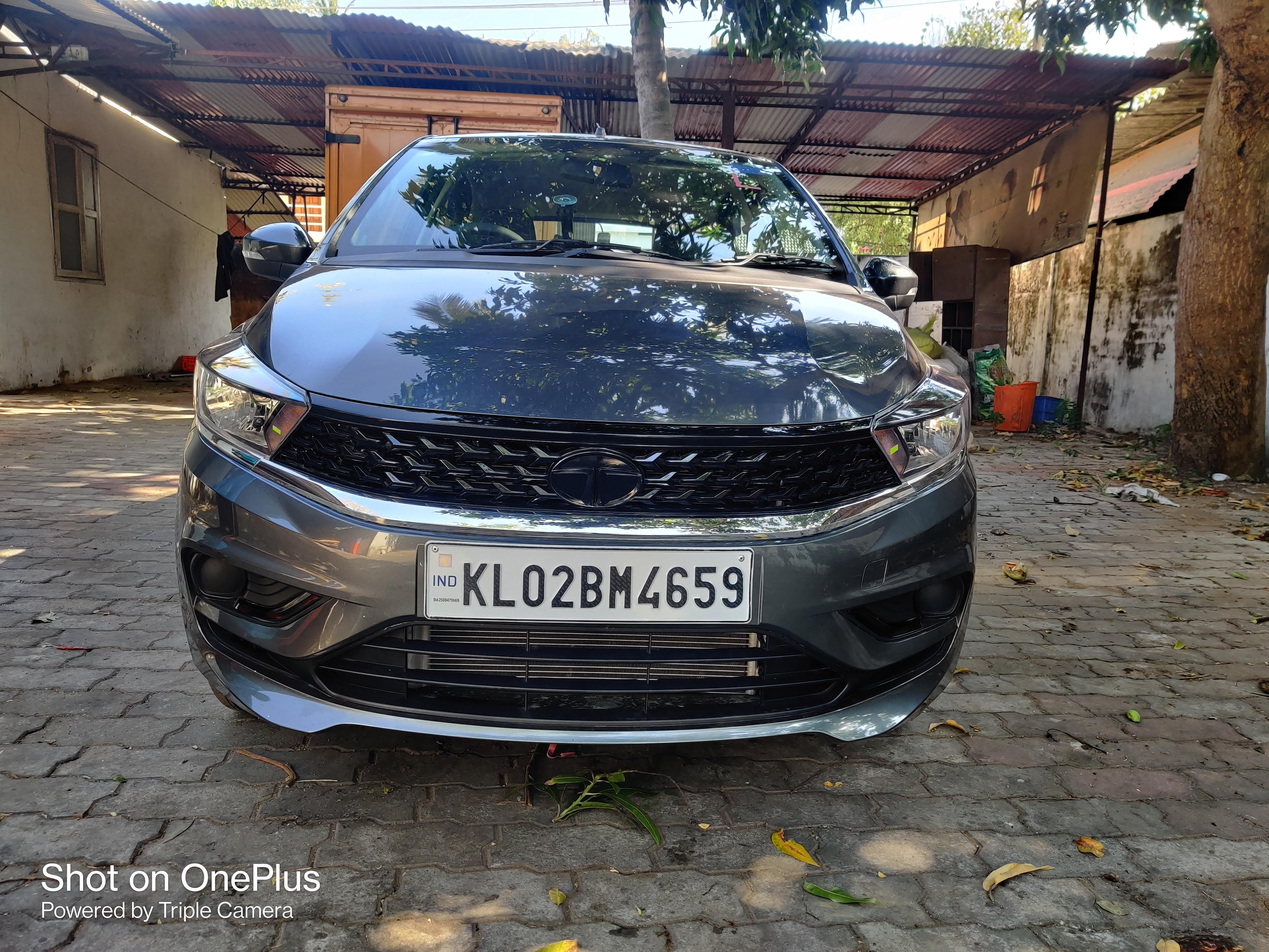number_platerotation: (421, 535, 758, 627)
